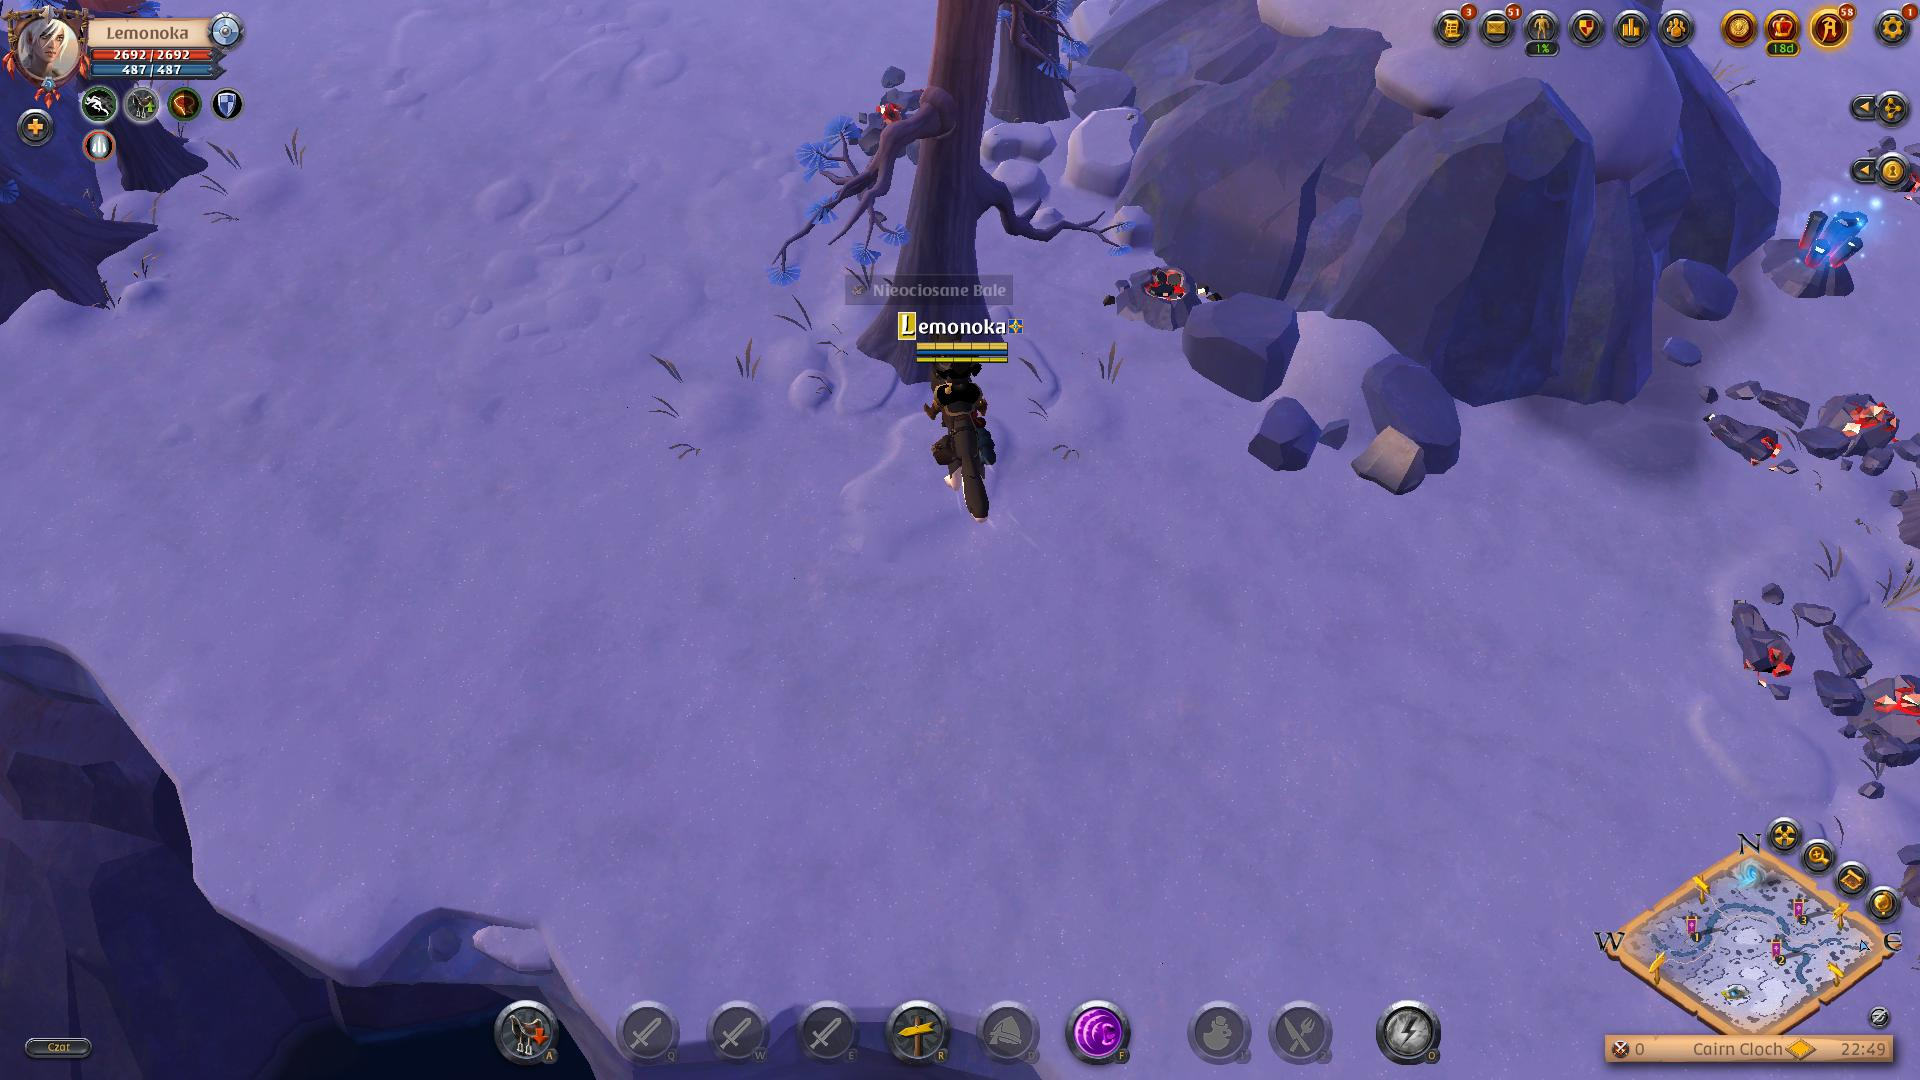ore tier 5: (1767, 191, 1870, 302)
rock tier 1: (1345, 425, 1440, 500)
